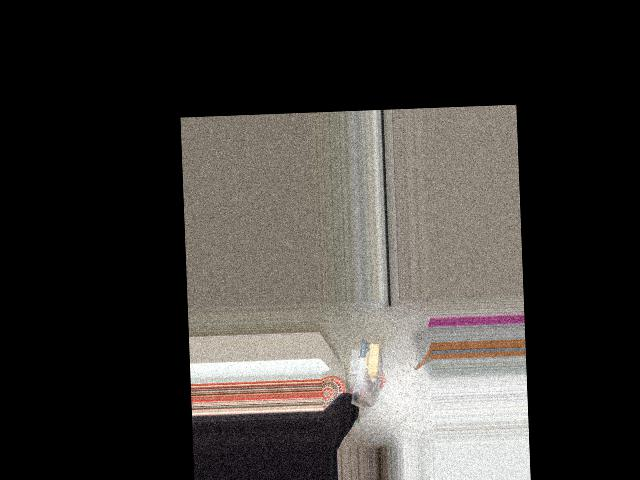cheese: (346, 340, 384, 410)
